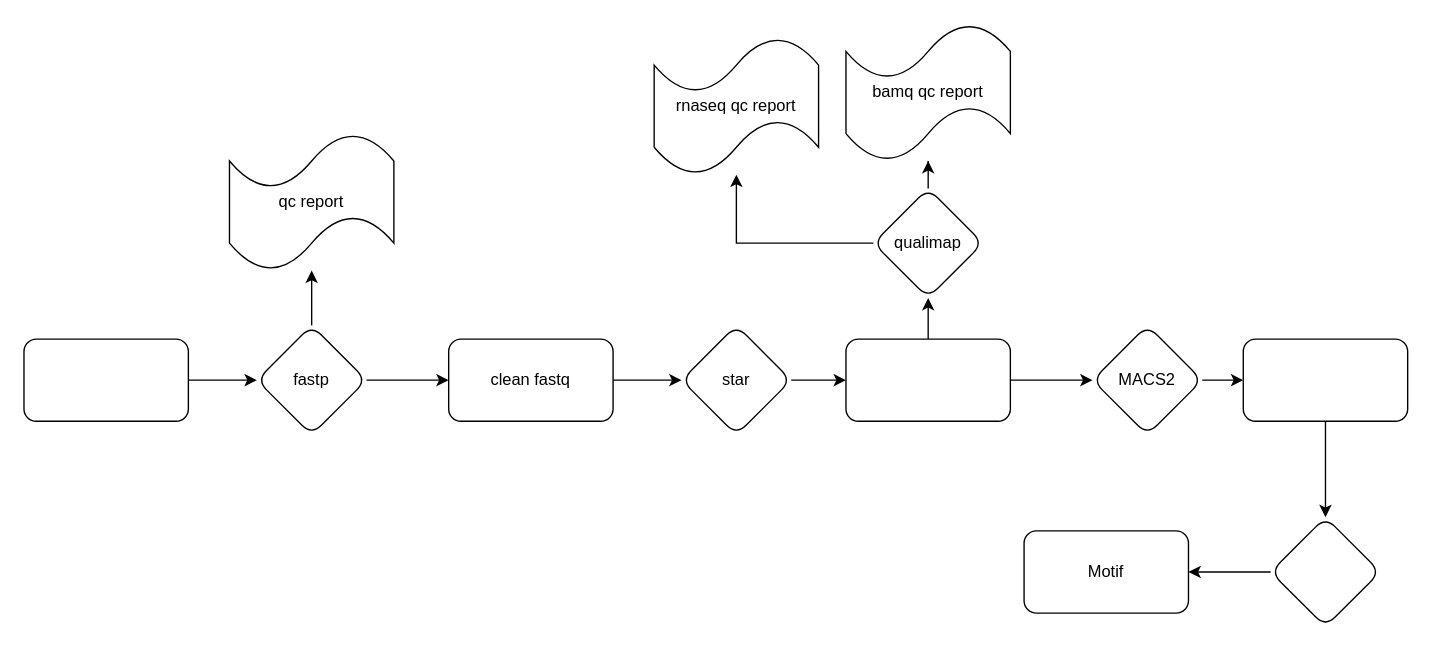
The diagram is 1432 pixels wide and 651 high, and some of its shapes have lost their labels. Here are the shapes that lost their labels. From the top down, the centre of each, then its label:
At point (105, 379): "raw fastq".
At point (927, 379): "splice alignment".
At point (1325, 379): "narrowPeak".
At point (1324, 571): "Homer".
